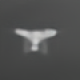plane: (11, 26, 59, 55)
